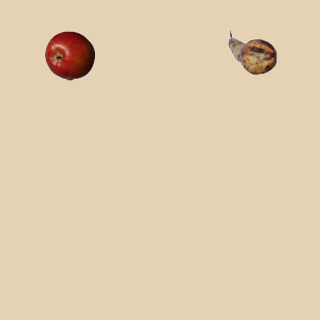Apple Braeburn: (44, 30, 94, 80)
Pear Abate: (227, 27, 277, 77)
